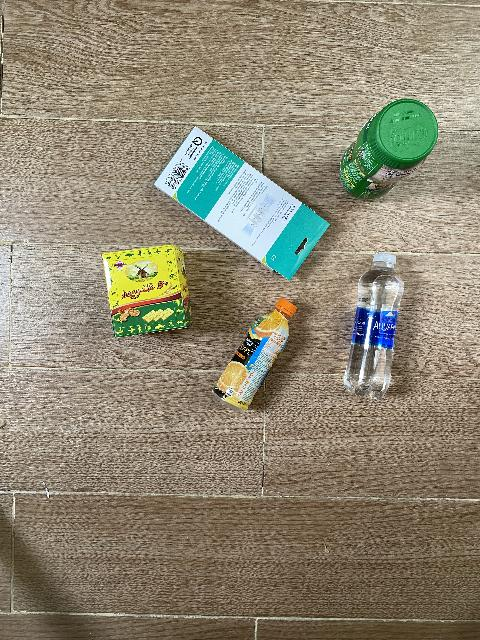4D_medical_face-mask: (154, 127, 330, 281)
aquafina: (344, 252, 404, 400)
luong_kho: (102, 245, 191, 338)
milo: (338, 98, 439, 202)
teppy_orange_juice: (212, 298, 297, 411)
